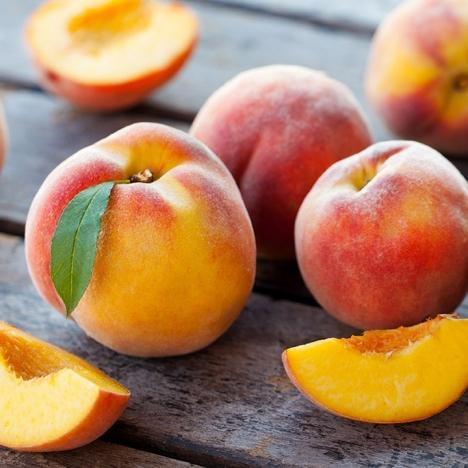Peach Ripe: (24, 115, 256, 354), (292, 135, 467, 325)
